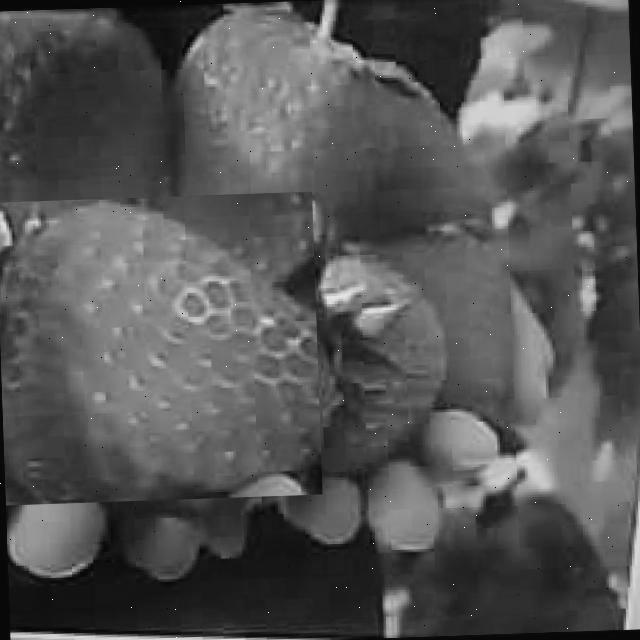ripe: (0, 191, 323, 505)
